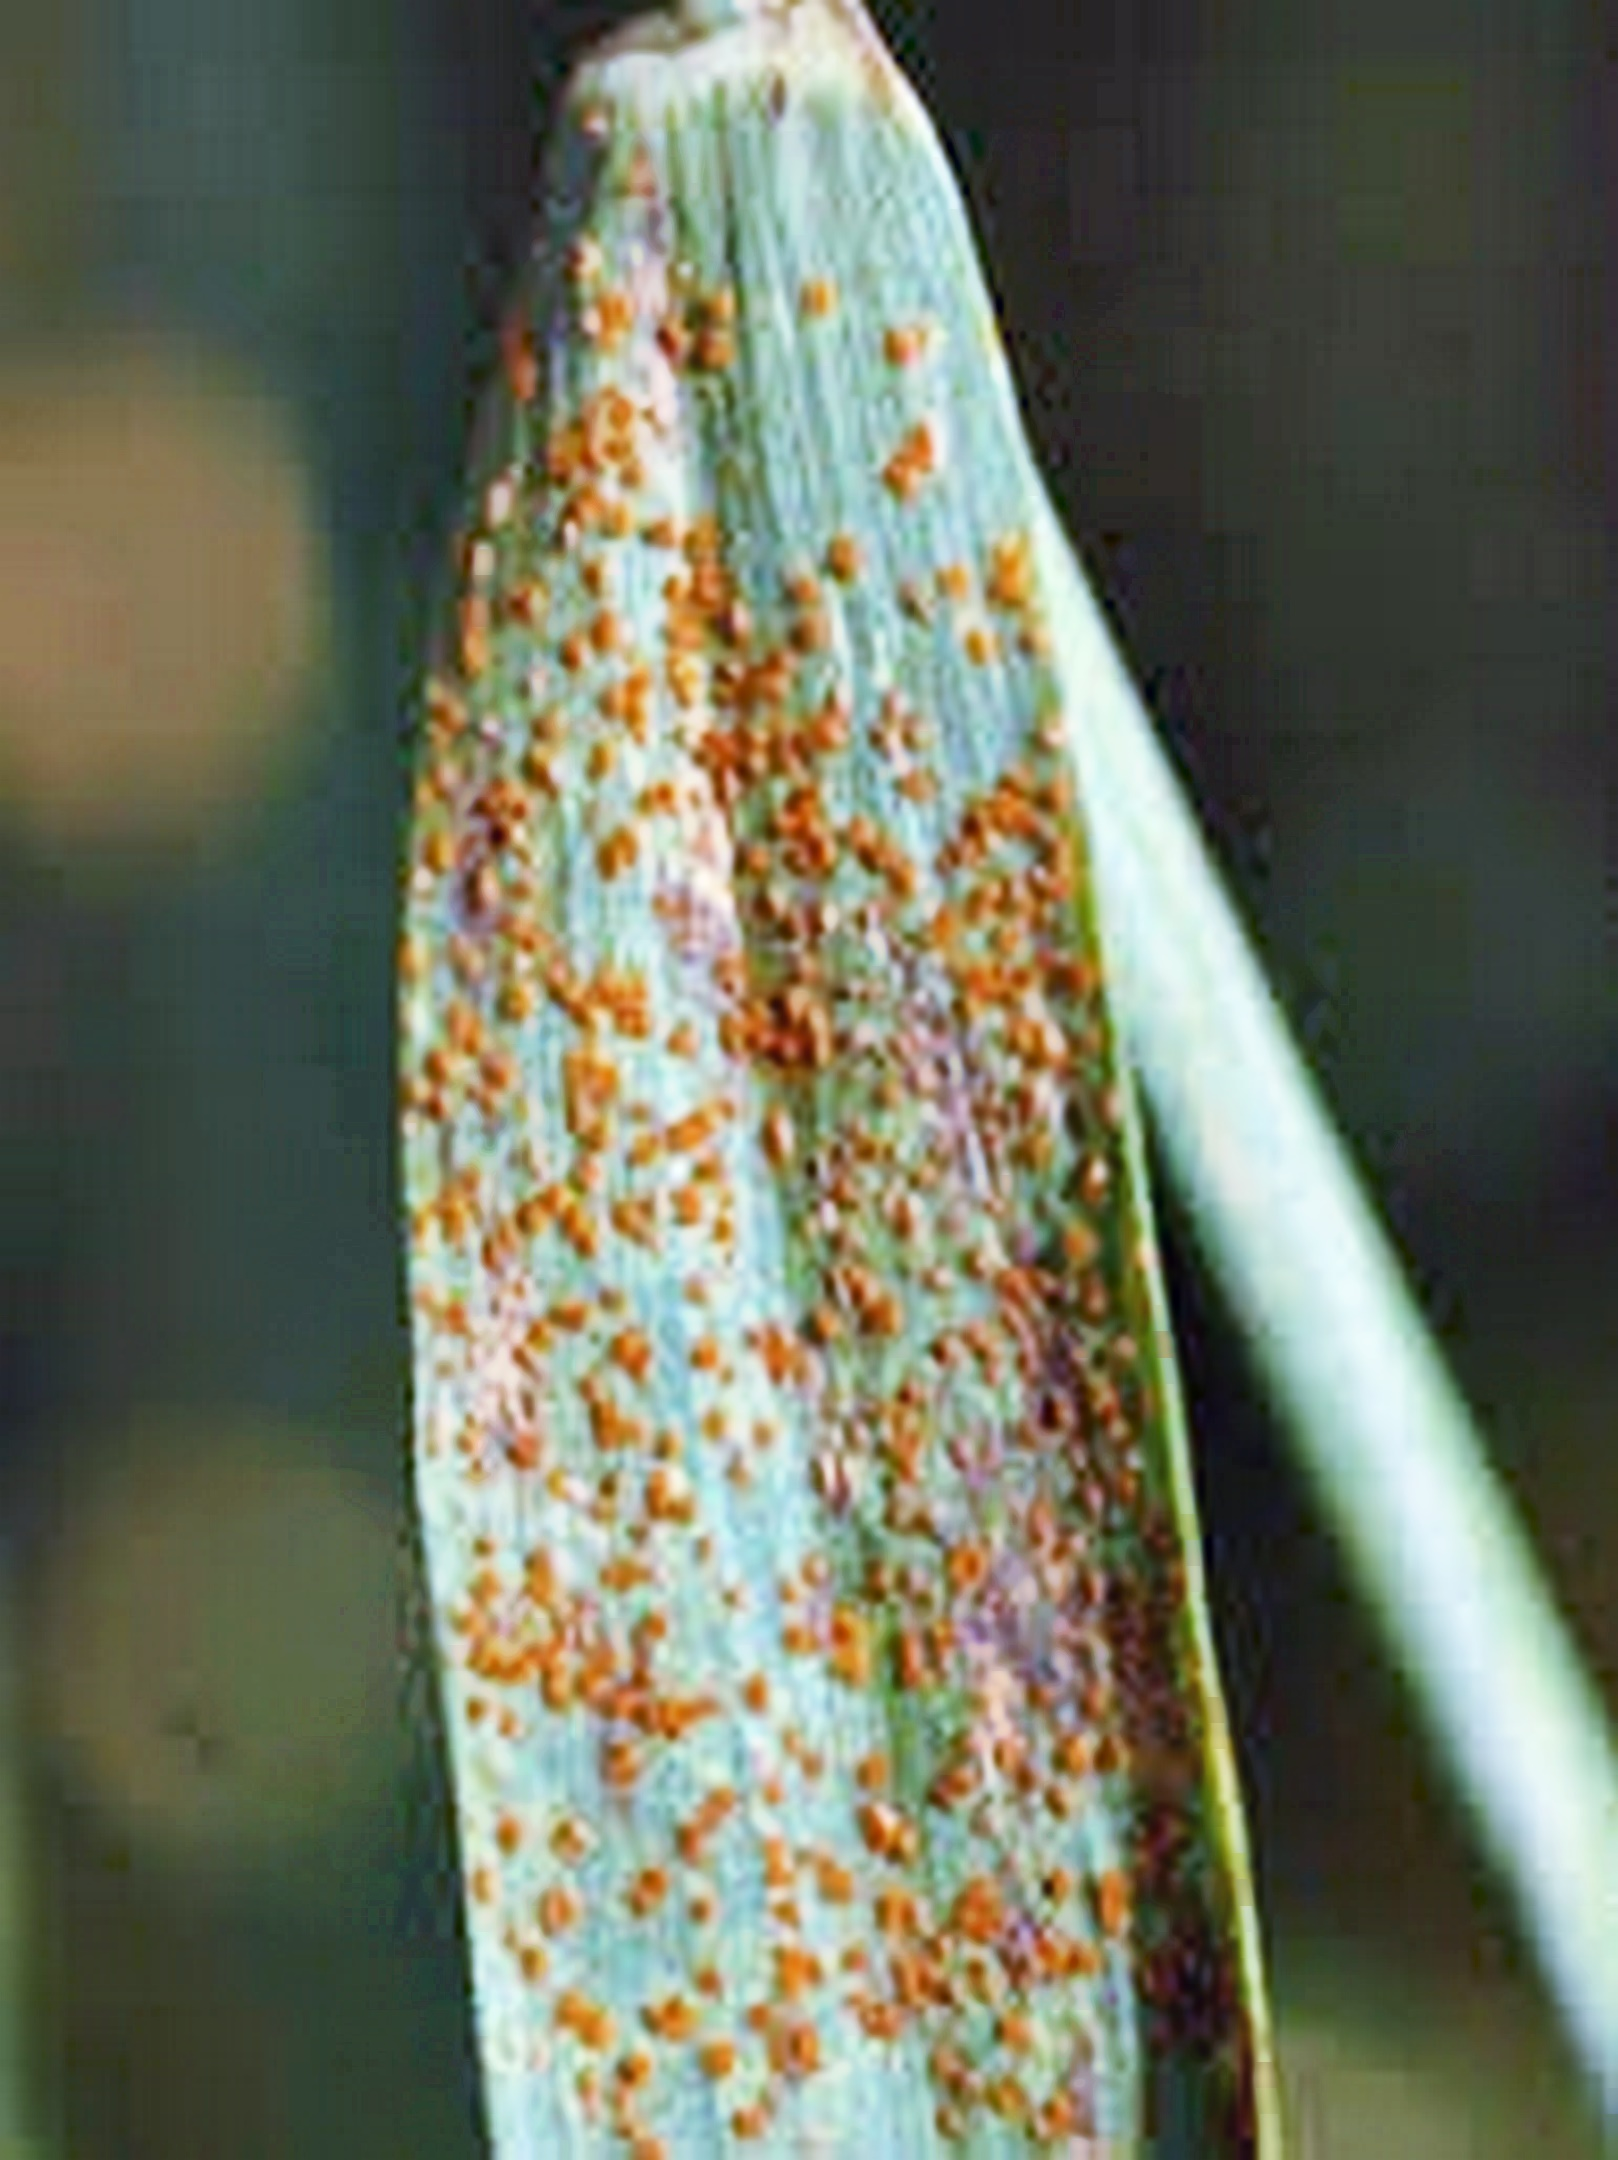Leaf Rust: (399, 396, 1237, 1931)
